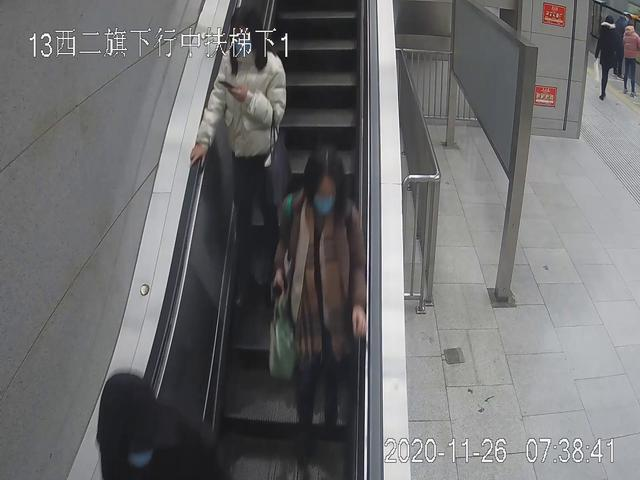person: (275, 145, 370, 477), (192, 10, 285, 296), (594, 14, 615, 100), (621, 23, 640, 99)
